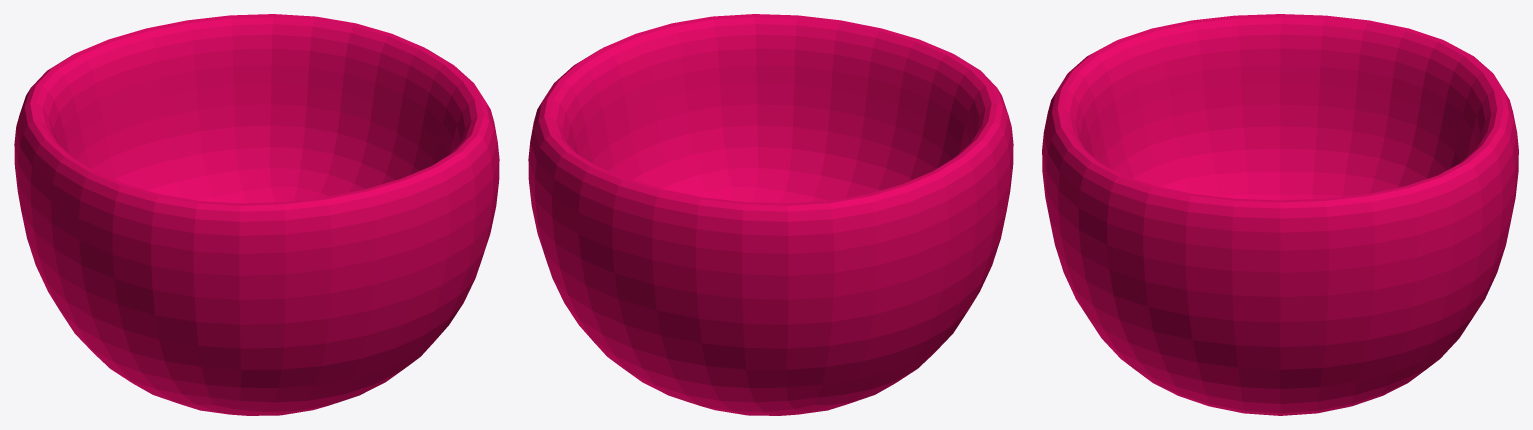
File: bowl.fbx
3 views of the same model, side by side, from view 1: azimuth 30°, elevation 25°; view 2: azimuth 150°, elevation 25°; view 3: azimuth 270°, elevation 25° (orthographic).
Parts seen in each view (by area): view 1: Cube; view 2: Cube; view 3: Cube.
Part boxes in pixels (x1,y1,x2,y2): Cube: (14,14,499,415); Cube: (528,14,1013,415); Cube: (1042,14,1518,415).
Bounding box in the file's own units: 183 × 119 × 183.
